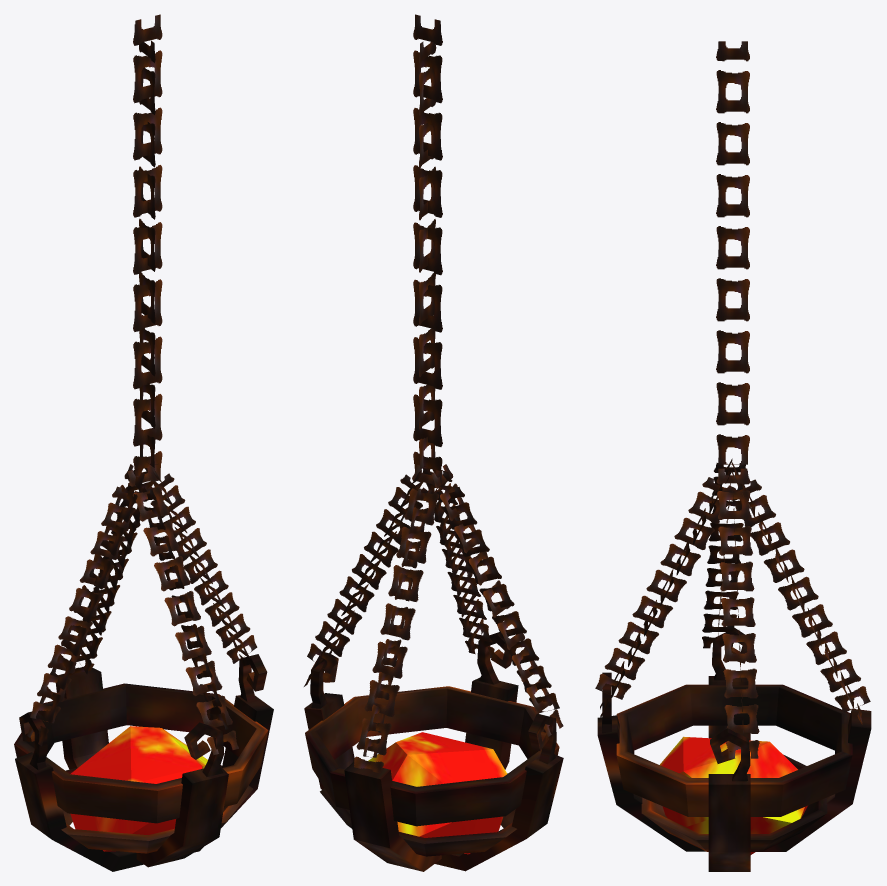
The model's file is torch1.FBX.
The picture shows the model from 3 angles, left to right: view 1: azimuth 30°, elevation 25°; view 2: azimuth 150°, elevation 25°; view 3: azimuth 270°, elevation 25°; orthographic projection.
Parts seen in each view (by area): view 1: torch1; view 2: torch1; view 3: torch1.
Part boxes in pixels (left/top/right/bottom): torch1: left=14, top=14, right=273, bottom=871; torch1: left=304, top=14, right=563, bottom=871; torch1: left=595, top=41, right=871, bottom=871.
Size of the model in its own units: 1.69 by 1.69 by 5.53.
